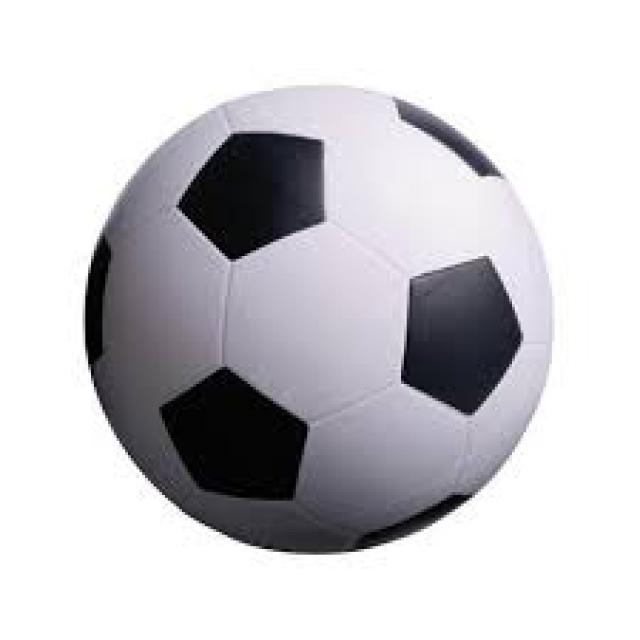football: (74, 88, 546, 563)
